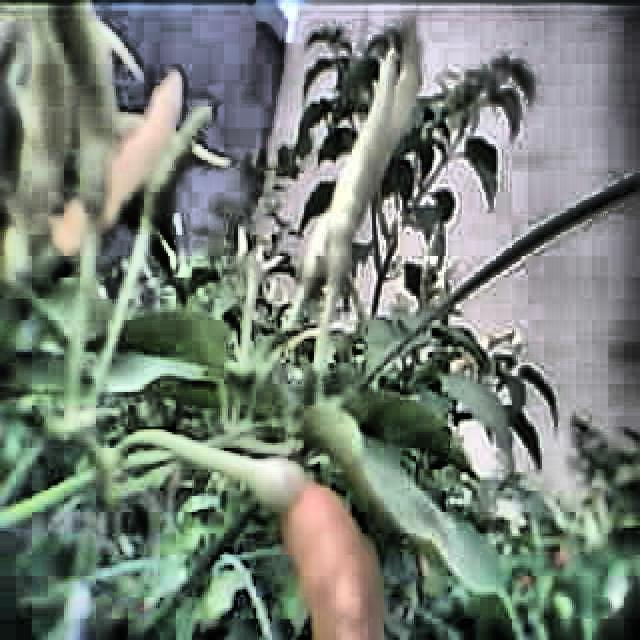Cabai: (55, 79, 174, 274), (272, 474, 380, 640)
